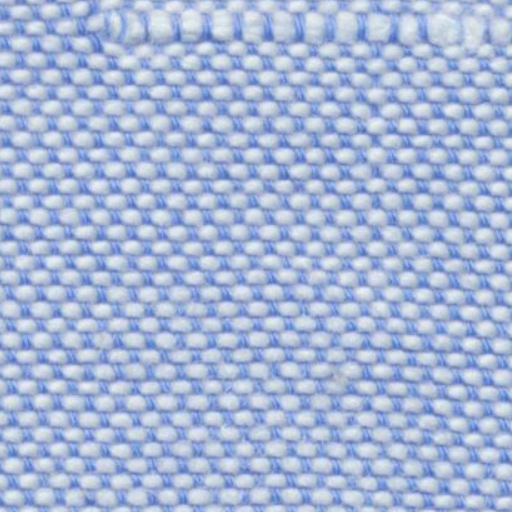DaiSha: (90, 2, 498, 70)
